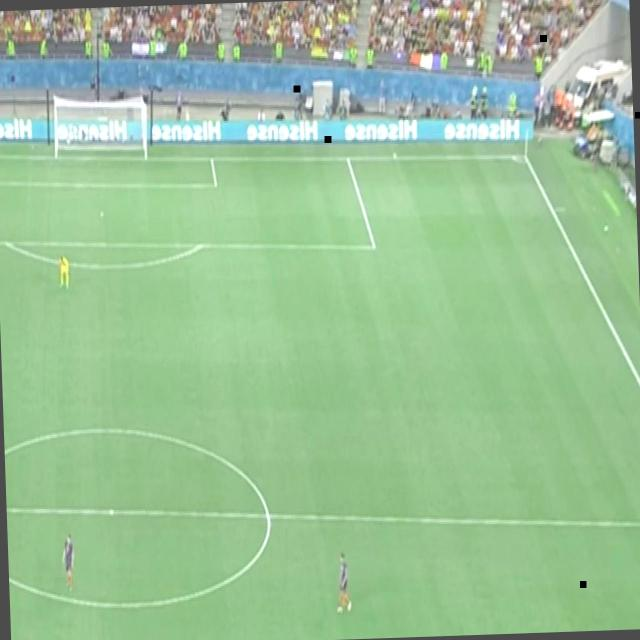player-white: (333, 549, 353, 617), (59, 532, 78, 595), (56, 251, 72, 294)
